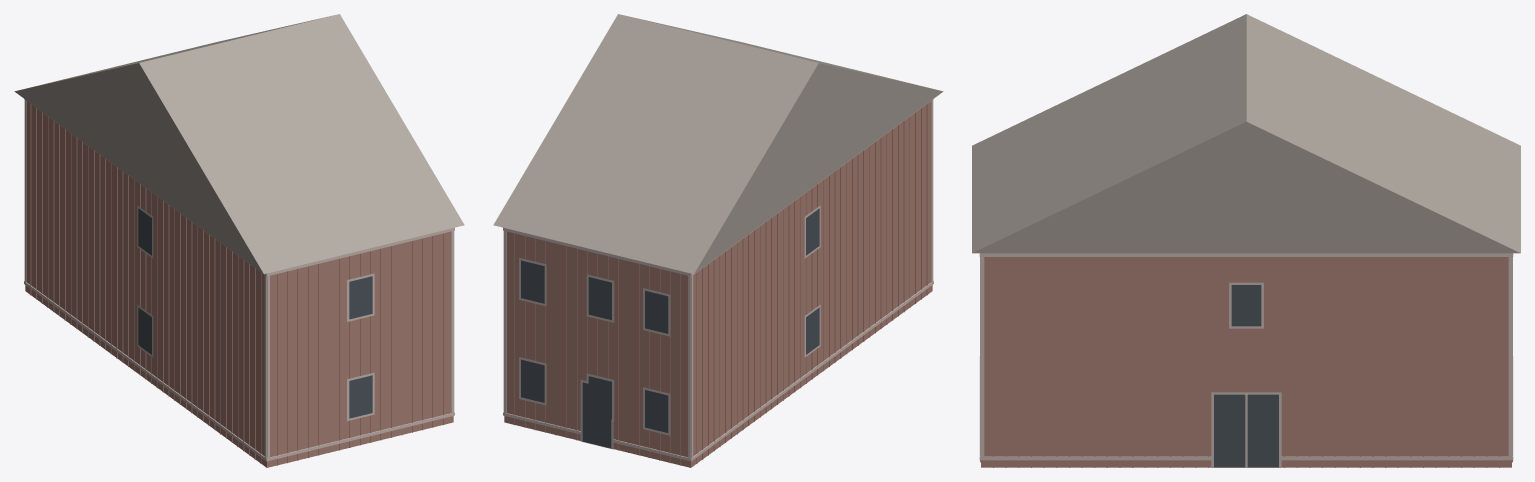
Rendered from recon_1835_south_f2_039__inferred_1835.glb.
The picture shows the model from 3 angles, left to right: view 1: azimuth 30°, elevation 25°; view 2: azimuth 150°, elevation 25°; view 3: azimuth 270°, elevation 25°; orthographic projection. The views are drawn at different scales.
Visible parts, largest first — view 1: recon_1835_south_f2_039__inferred_1835; view 2: recon_1835_south_f2_039__inferred_1835; view 3: recon_1835_south_f2_039__inferred_1835.
Boxes of the visible parts, x1,y1,x2,y2 form: recon_1835_south_f2_039__inferred_1835: (14, 14, 464, 467); recon_1835_south_f2_039__inferred_1835: (493, 14, 943, 467); recon_1835_south_f2_039__inferred_1835: (972, 14, 1520, 467).
Size of the model in its own units: 7.24 by 10.97 by 15.61.
